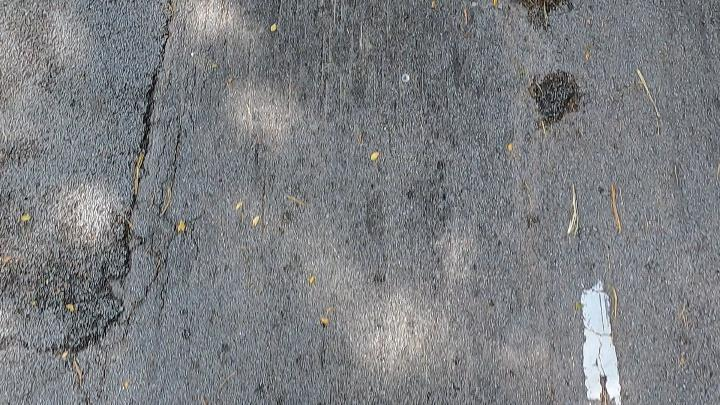Lane: (579, 281, 626, 403), (581, 282, 620, 404)
Pothole: (0, 0, 173, 351), (0, 0, 167, 347), (528, 67, 586, 130), (530, 71, 578, 125)
